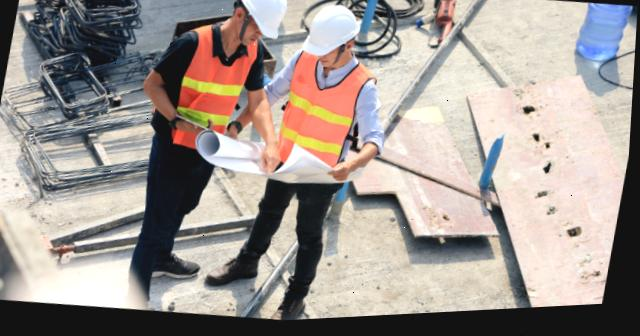helmet: (302, 1, 366, 66), (229, 0, 293, 46)
vest: (270, 52, 380, 177), (167, 26, 262, 155)
